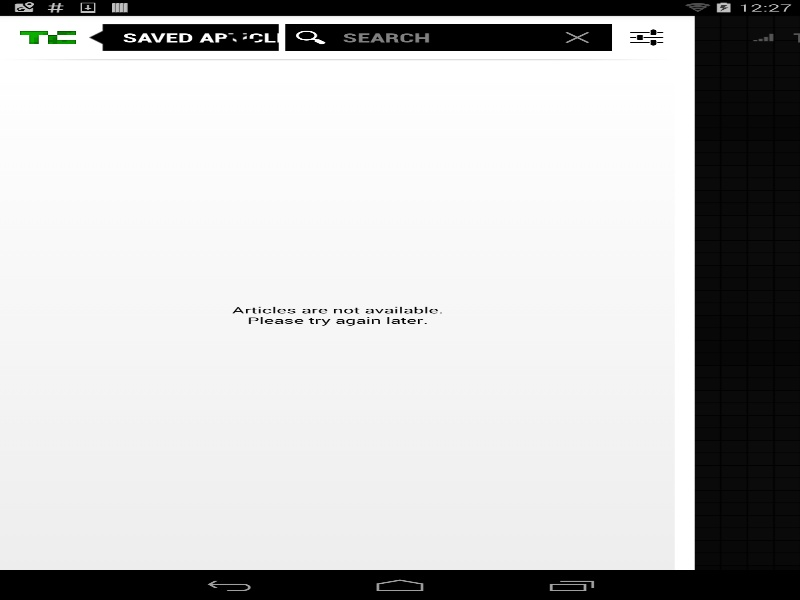Button: (553, 26, 601, 48), (289, 27, 332, 47), (625, 27, 668, 47), (20, 30, 76, 44)
Input: (342, 23, 542, 51)
